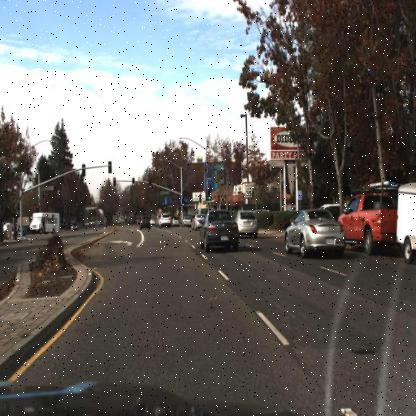car: (336, 174, 416, 256), (284, 206, 346, 257), (201, 206, 243, 256), (236, 207, 258, 239), (192, 203, 206, 235), (136, 214, 154, 233), (156, 209, 172, 228), (179, 214, 193, 230)
trafficLight-Green: (146, 177, 154, 194), (205, 185, 213, 200), (130, 177, 136, 192), (179, 197, 185, 212)
trafficLight-Red: (111, 174, 117, 192)
truck: (28, 206, 62, 238), (29, 212, 60, 236)
